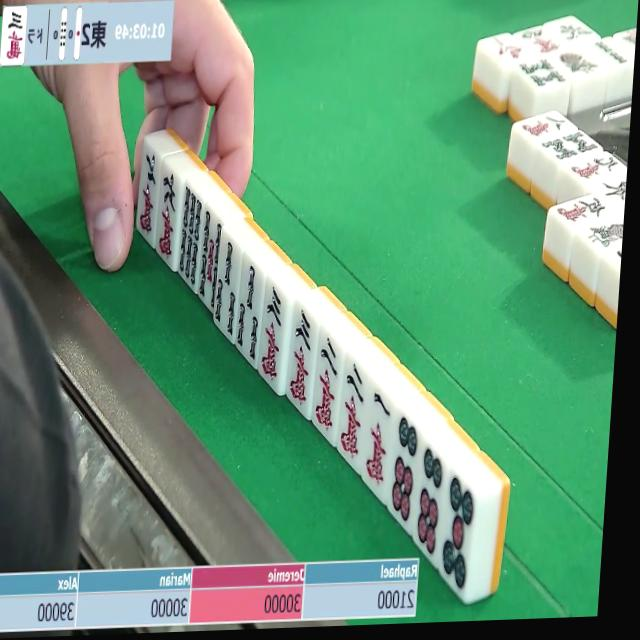m1: (361, 385, 396, 496)
m2: (310, 330, 343, 437), (336, 359, 369, 464)
m3: (284, 303, 319, 413), (255, 282, 287, 389), (0, 8, 26, 66)
m6: (157, 169, 182, 266)
m7: (137, 143, 162, 240)
s3: (233, 258, 265, 363), (210, 235, 240, 340)
s5: (195, 211, 222, 311)
s6: (175, 185, 204, 290)
s8: (539, 128, 598, 167)
t5: (437, 472, 478, 597)
t6: (384, 410, 421, 531), (410, 442, 446, 562)
